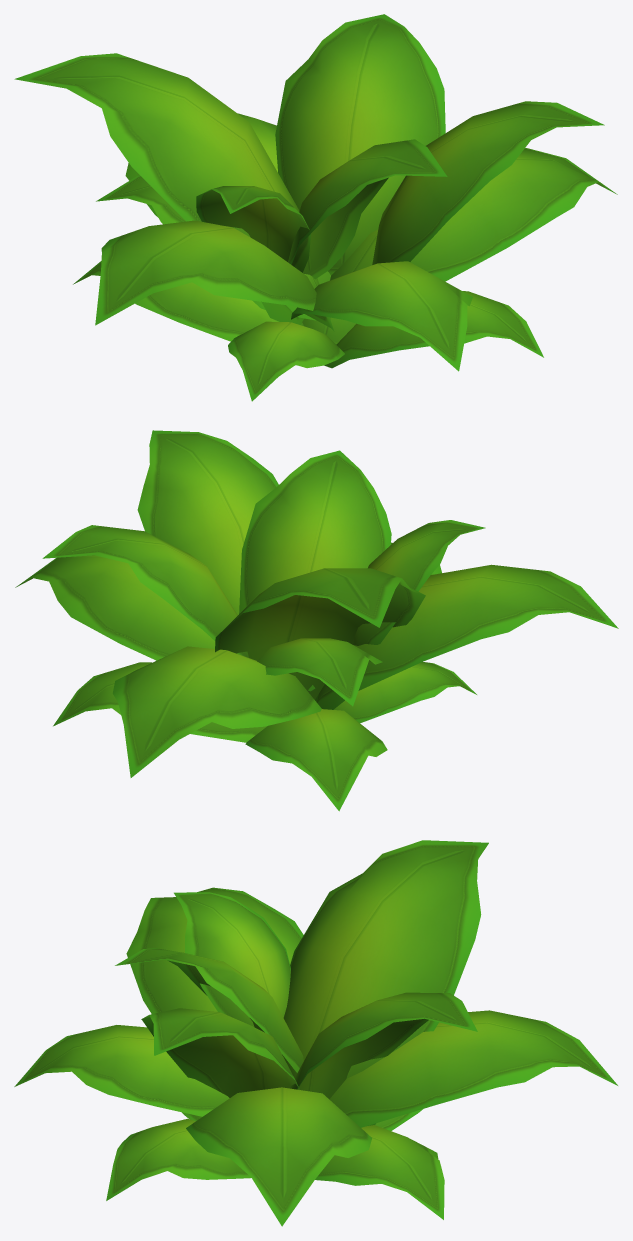
File: SM_Herbe.FBX
The picture shows the model from 3 angles, top to bottom: view 1: azimuth 30°, elevation 25°; view 2: azimuth 150°, elevation 25°; view 3: azimuth 270°, elevation 25°; orthographic projection. The views are drawn at different scales.
Visible parts, largest first — view 1: Plane054; view 2: Plane054; view 3: Plane054.
Part boxes in pixels (<box>): Plane054: <box>14,14,617,401</box>; Plane054: <box>15,430,618,811</box>; Plane054: <box>14,840,617,1226</box>.
Size of the model in its own units: 445 by 189 by 417.
